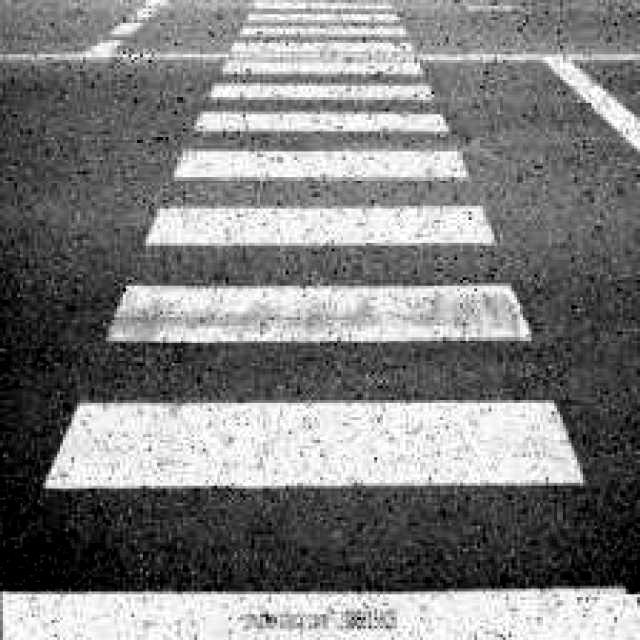crosswalk: (4, 2, 609, 639)
